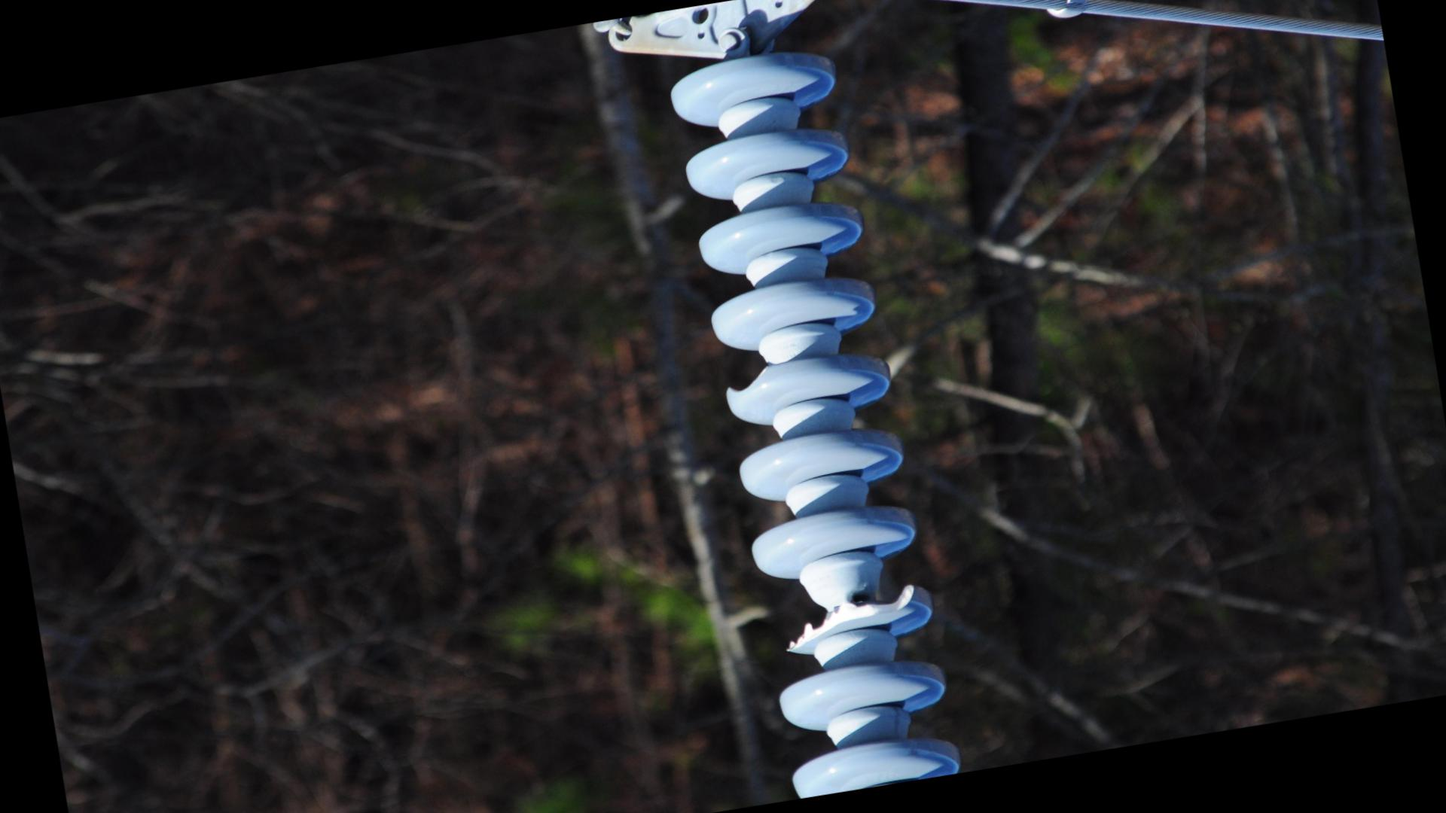damper: (961, 1, 1158, 44)
